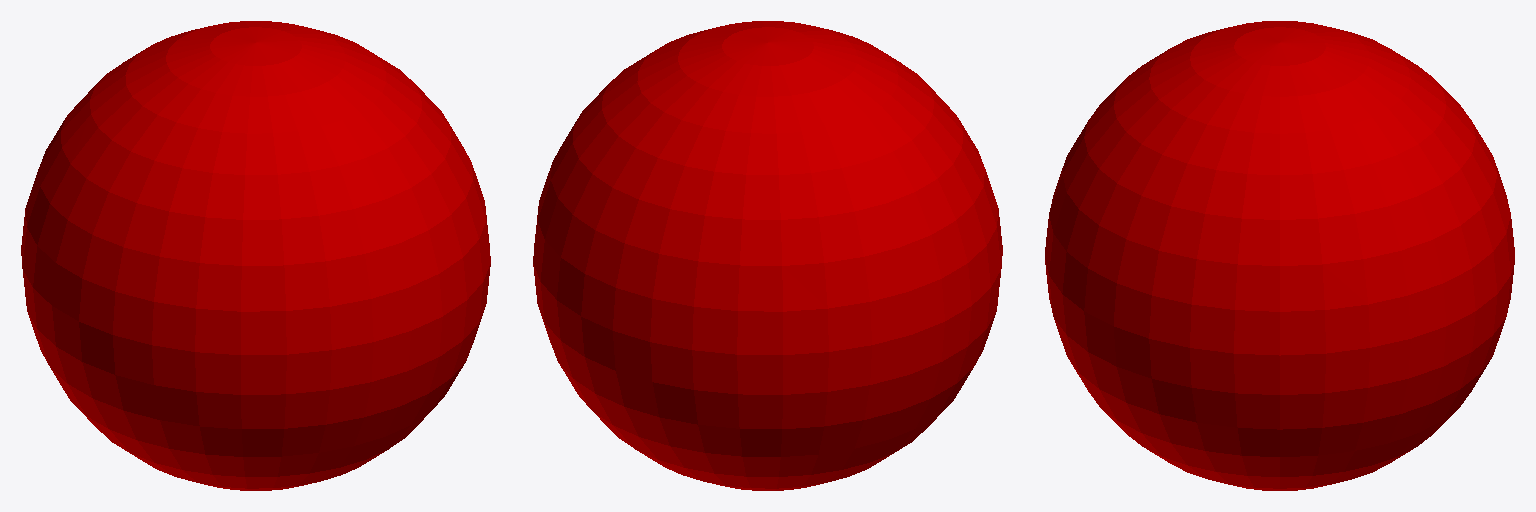
The model's file is Speaker.003.obj.
3 renders of one model, left to right at view 1: azimuth 30°, elevation 25°; view 2: azimuth 150°, elevation 25°; view 3: azimuth 270°, elevation 25°, orthographic.
Parts seen in each view (by area): view 1: Speaker.003_Sphere.002; view 2: Speaker.003_Sphere.002; view 3: Speaker.003_Sphere.002.
Boxes of the visible parts, x1,y1,x2,y2 form: Speaker.003_Sphere.002: [21, 21, 490, 490]; Speaker.003_Sphere.002: [533, 21, 1002, 490]; Speaker.003_Sphere.002: [1045, 21, 1514, 490].
Size of the model in its own units: 0.0534 by 0.0534 by 0.0534.